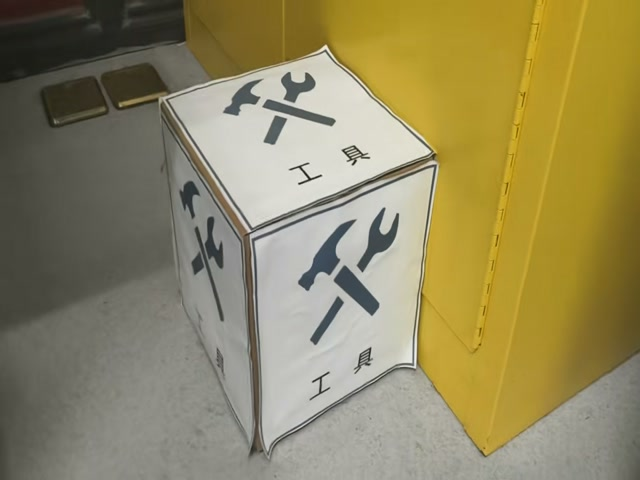Cube_tool: (158, 44, 436, 241)
